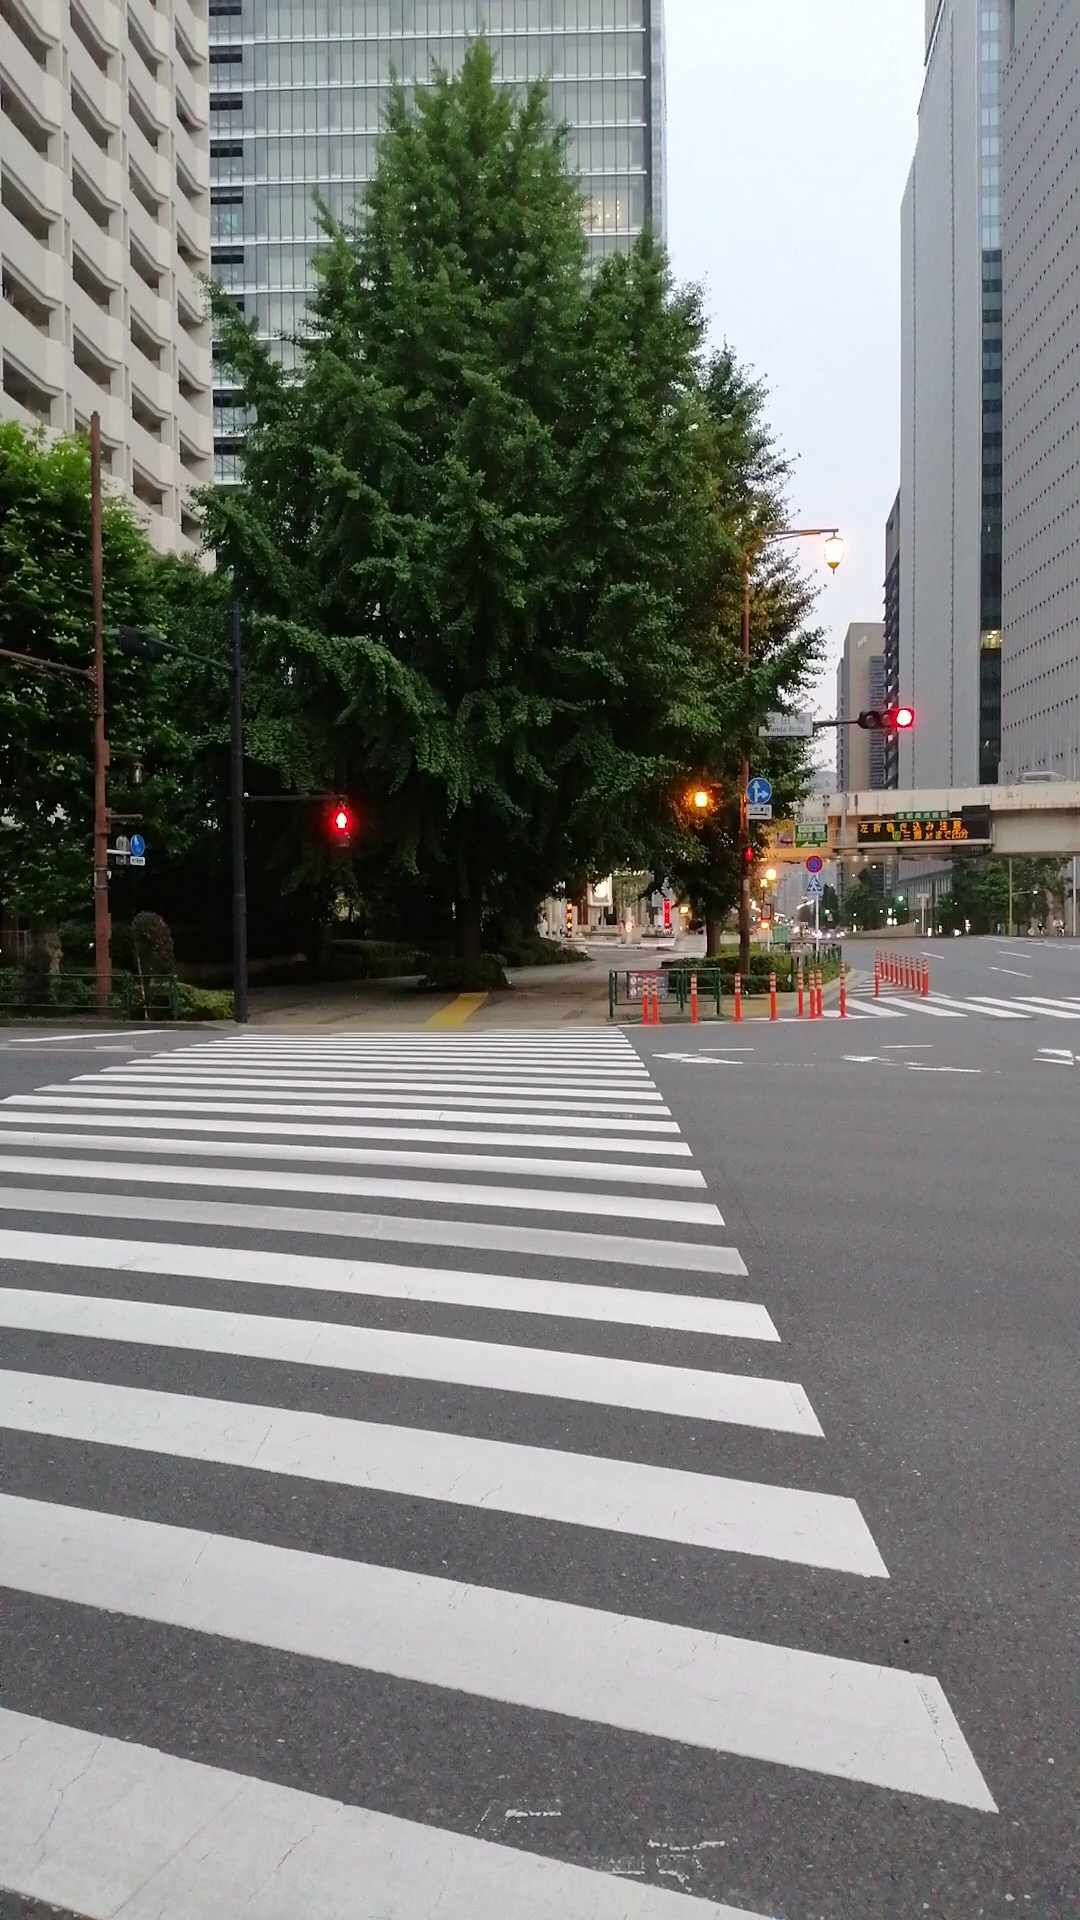red: (324, 804, 355, 851)
